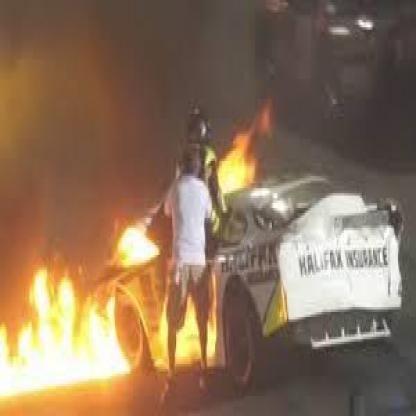fire: (0, 261, 128, 400), (207, 125, 263, 190), (172, 288, 202, 362), (112, 216, 157, 263), (155, 288, 170, 362), (204, 278, 217, 361)
